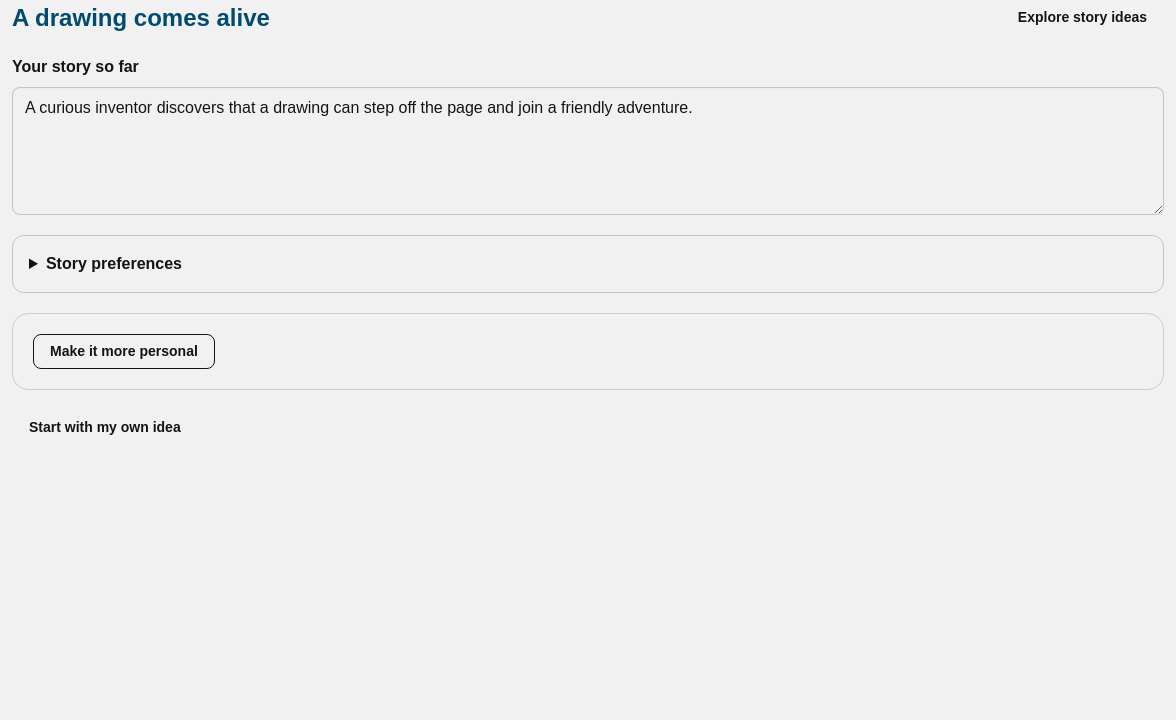
StoryTemplatePicker › uses a local fallback on timeout and keeps the story usable
Click the button "Make it more personal".
click(124, 352)  # box 33,334 -> 215,369
Wait 12000 ms
(page scrolled)
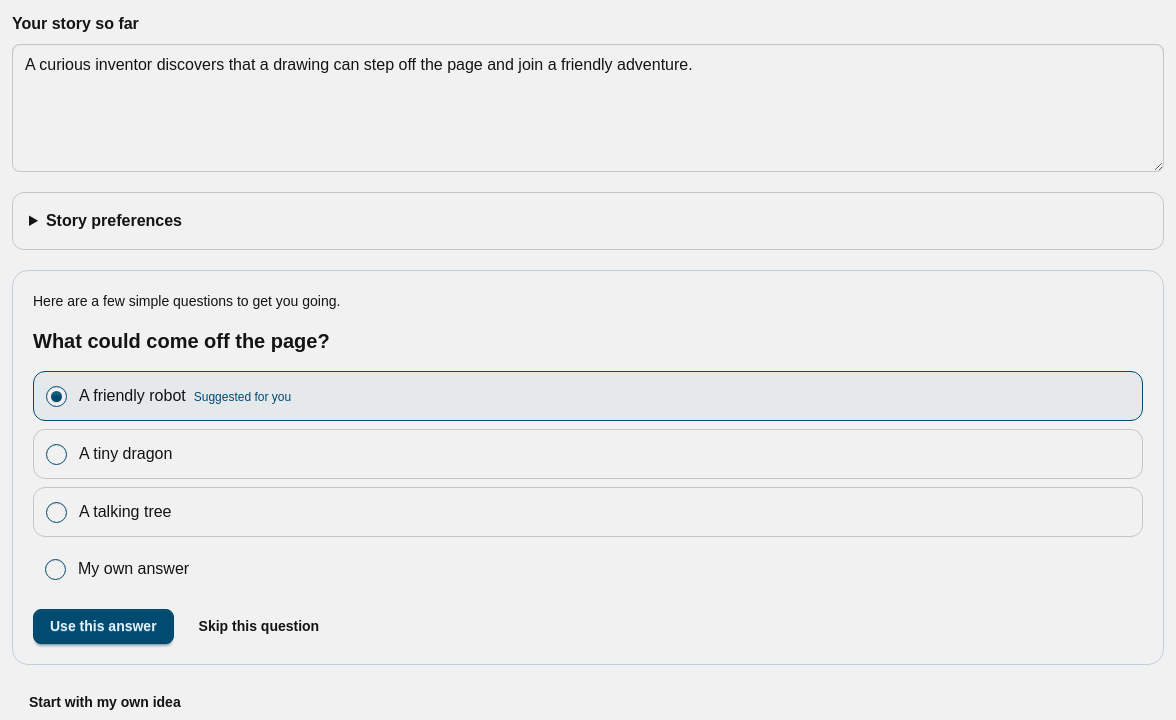
Expected: the button "Start with my own idea" is enabled, 12,685 -> 198,719
Expected: the heading "What could come off the page?" is shown, 33,330 -> 330,352
Expected: the text "Here are a few simple questions to get you going." is shown, 33,293 -> 340,309
